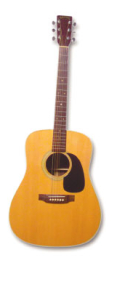guitar: (7, 13, 103, 248)
